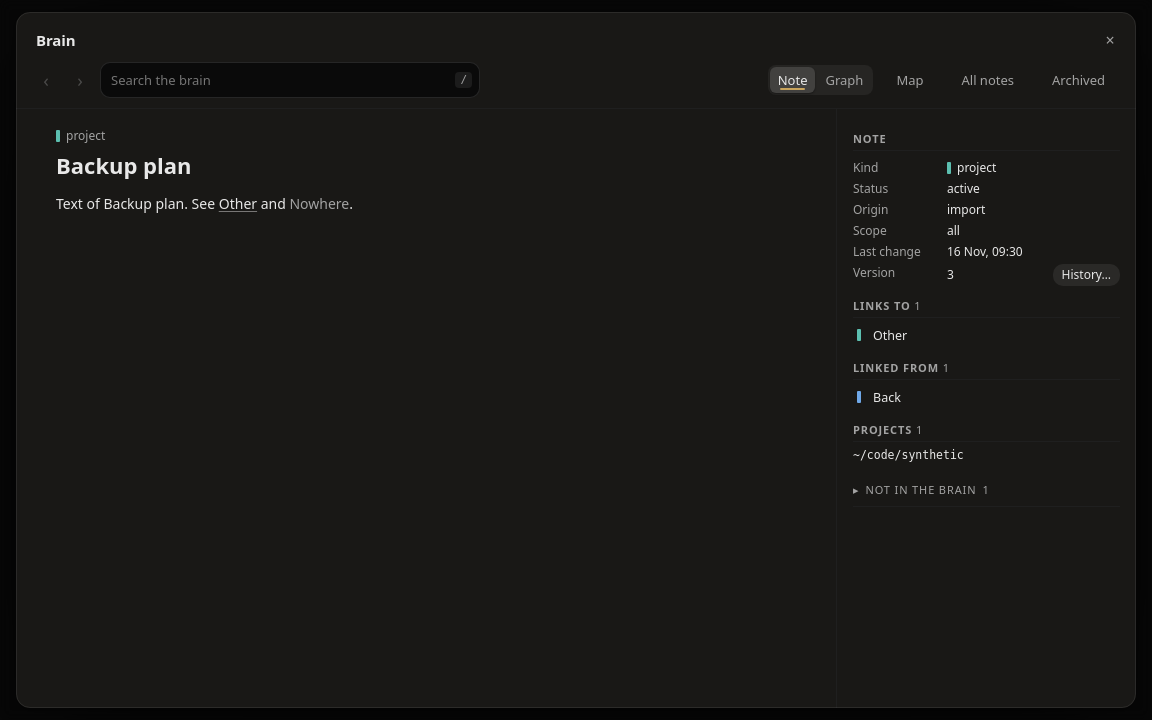
Scenario: Brain page after the post-delivery review (2026-11-20) › a link in an older version opens the note that version names, not one the current text names
Press h in the element with class "b-box"
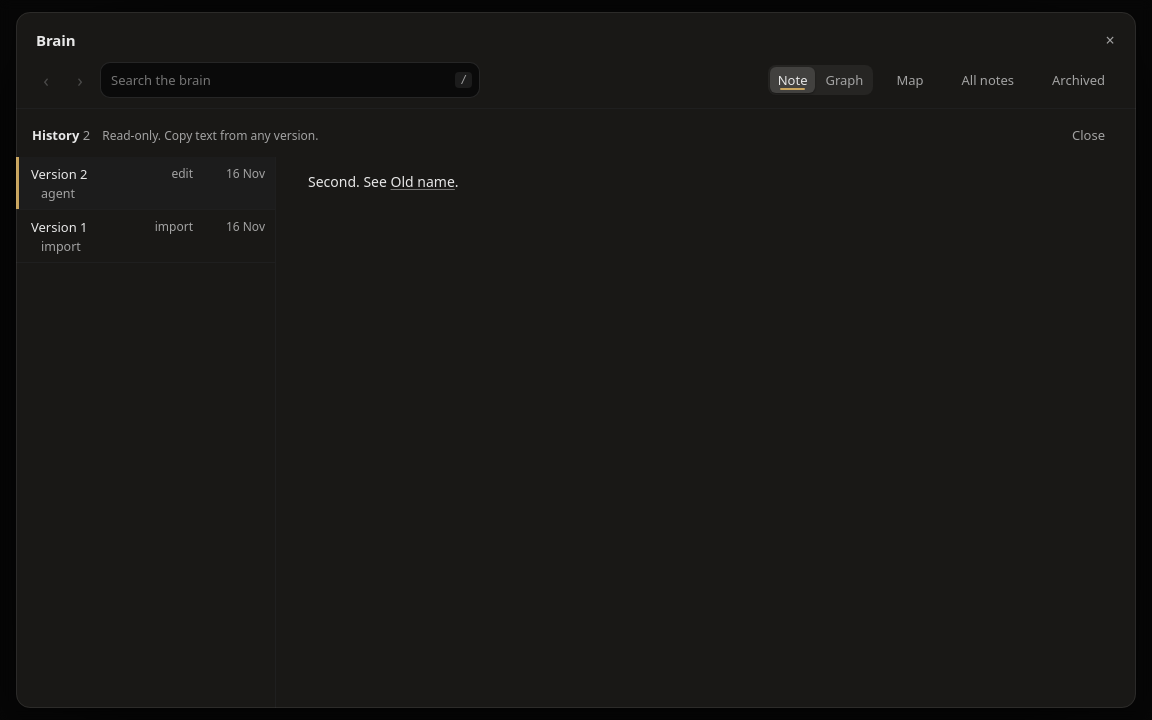
expect the link "Old name" is shown: met
Click the link "Old name" at (423, 182), box [390, 172, 455, 191]
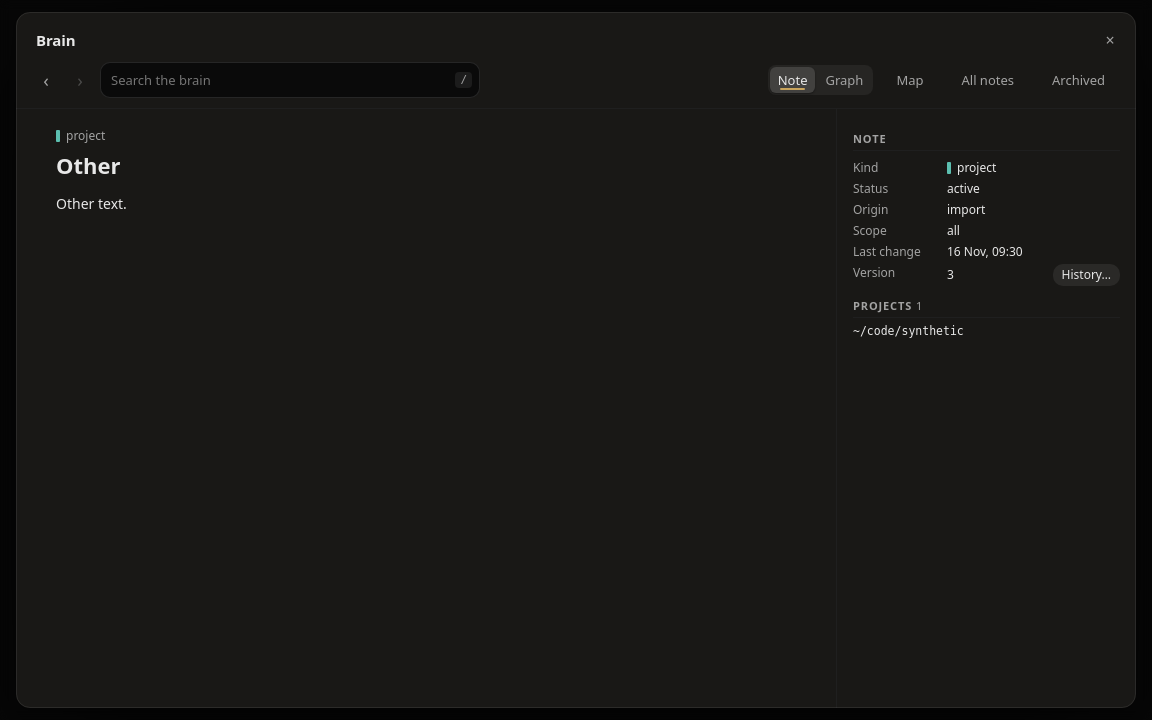
expect the heading with class "b-title" reads "Other": met, box [56, 150, 120, 180]
